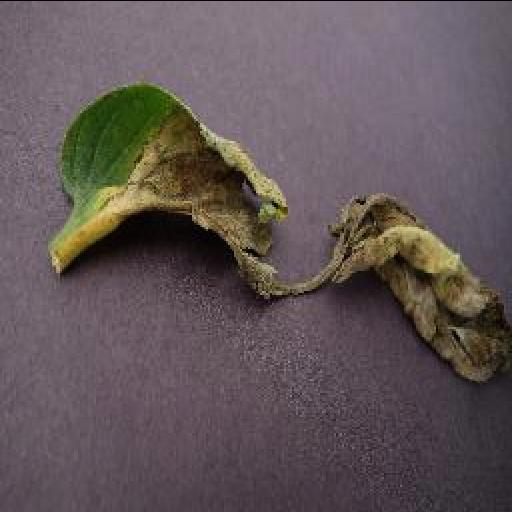disease_tomato: (56, 82, 512, 380)
